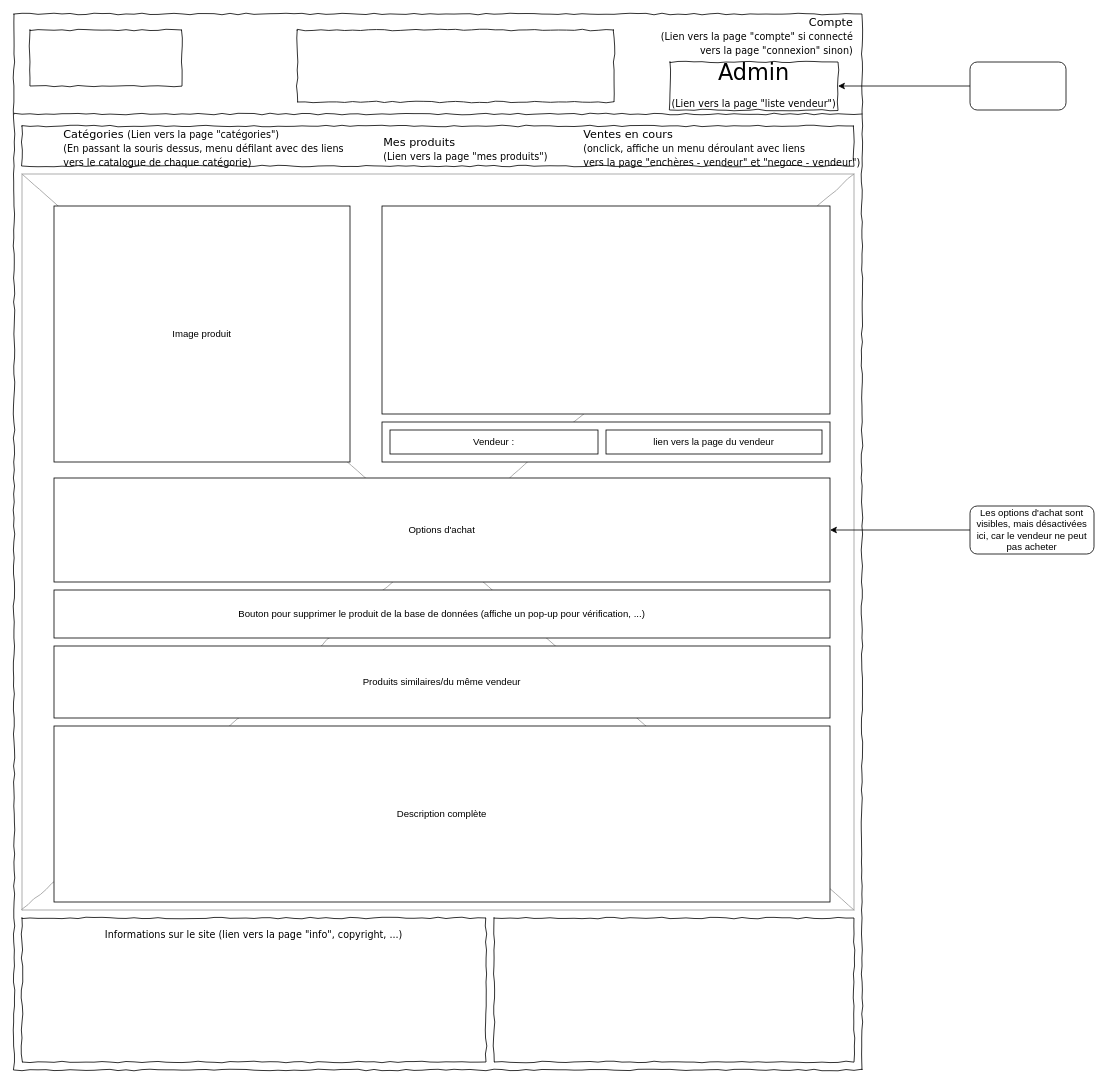
Some shapes in this 1108 by 1084 pixel diagram are drawn without their labels. Each missing label, with the centre of its shape:
Bienvenue ...: (455,65)
Description brève: (605,309)
LOGO (Lien vers la page "accueil"): (105,57)
Nous contacter: (673,989)
Uniquement visible si le vendeur connecté est un admin: (1017,85)
